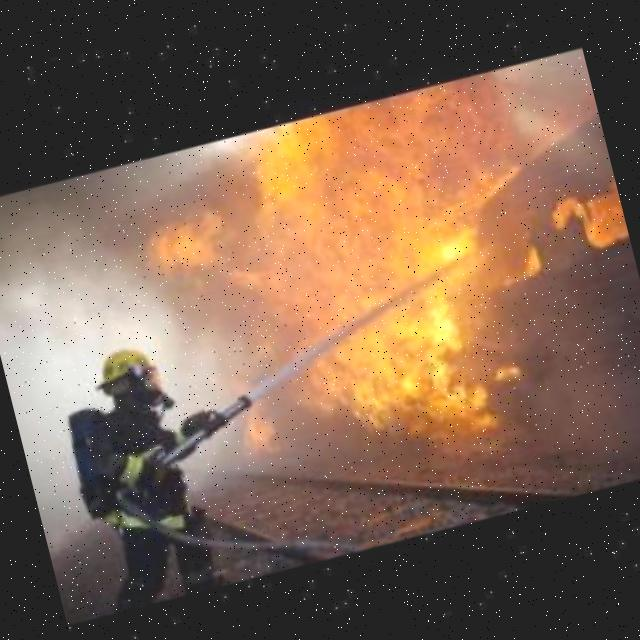fire: (130, 85, 582, 511)
